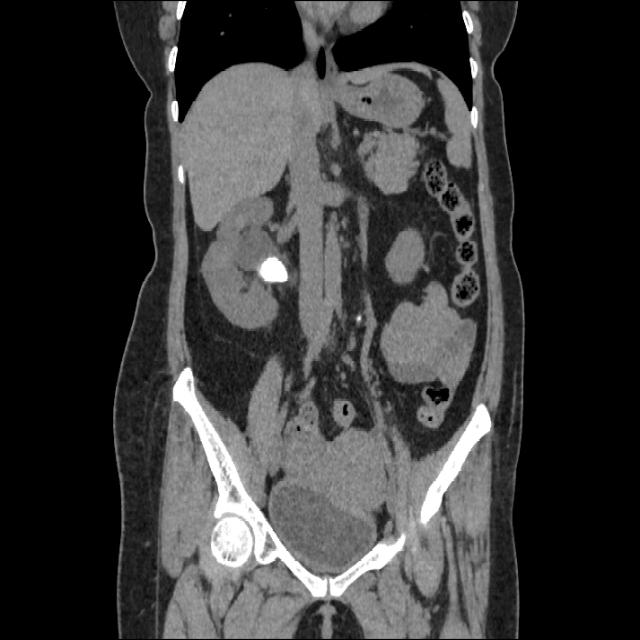kidney: (202, 222, 296, 328)
stone: (260, 256, 290, 283), (357, 314, 362, 322)
